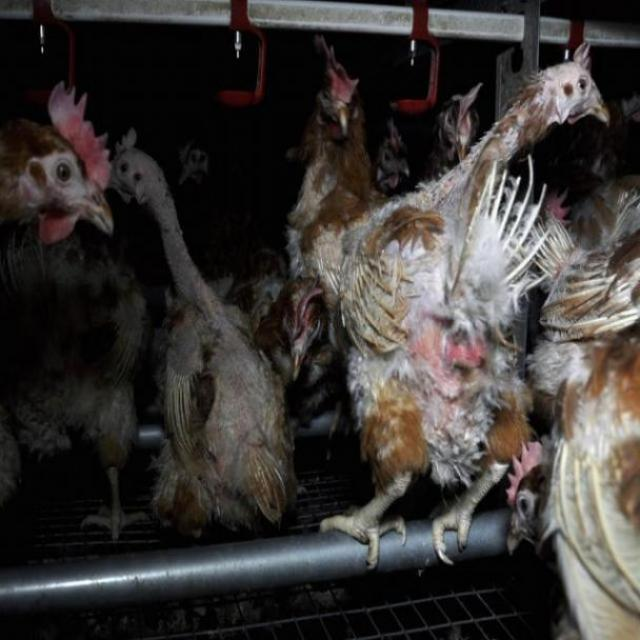Chicken: (0, 41, 595, 639), (0, 75, 112, 245)
